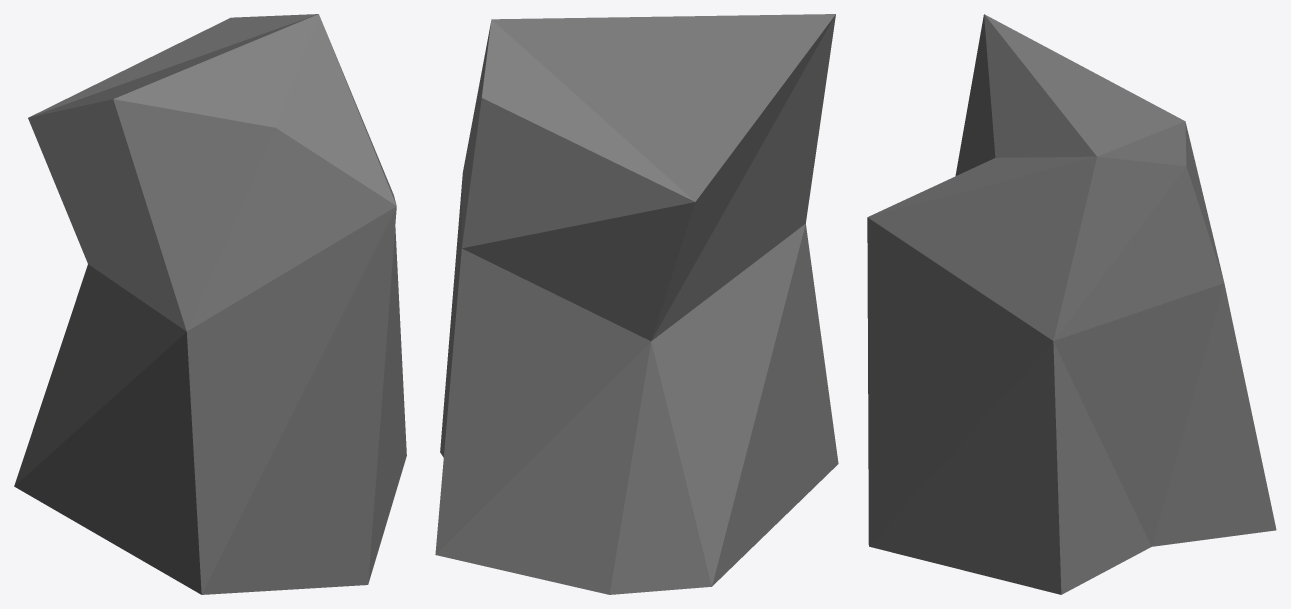
File: rock4.fbx
3 renders of one model, left to right at view 1: azimuth 30°, elevation 25°; view 2: azimuth 150°, elevation 25°; view 3: azimuth 270°, elevation 25°, orthographic. The views are drawn at different scales.
Visible parts, largest first — view 1: Cylinder025; view 2: Cylinder025; view 3: Cylinder025.
Part boxes in pixels (x1,y1,x2,y2): Cylinder025: (14,14,406,594); Cylinder025: (435,14,838,594); Cylinder025: (867,14,1276,594).
Size of the model in its own units: 86.05 by 119 by 98.99.
